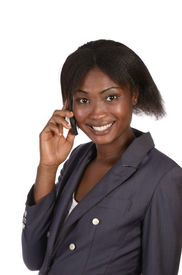phone: (49, 97, 79, 143)
talk: (34, 86, 132, 158)
